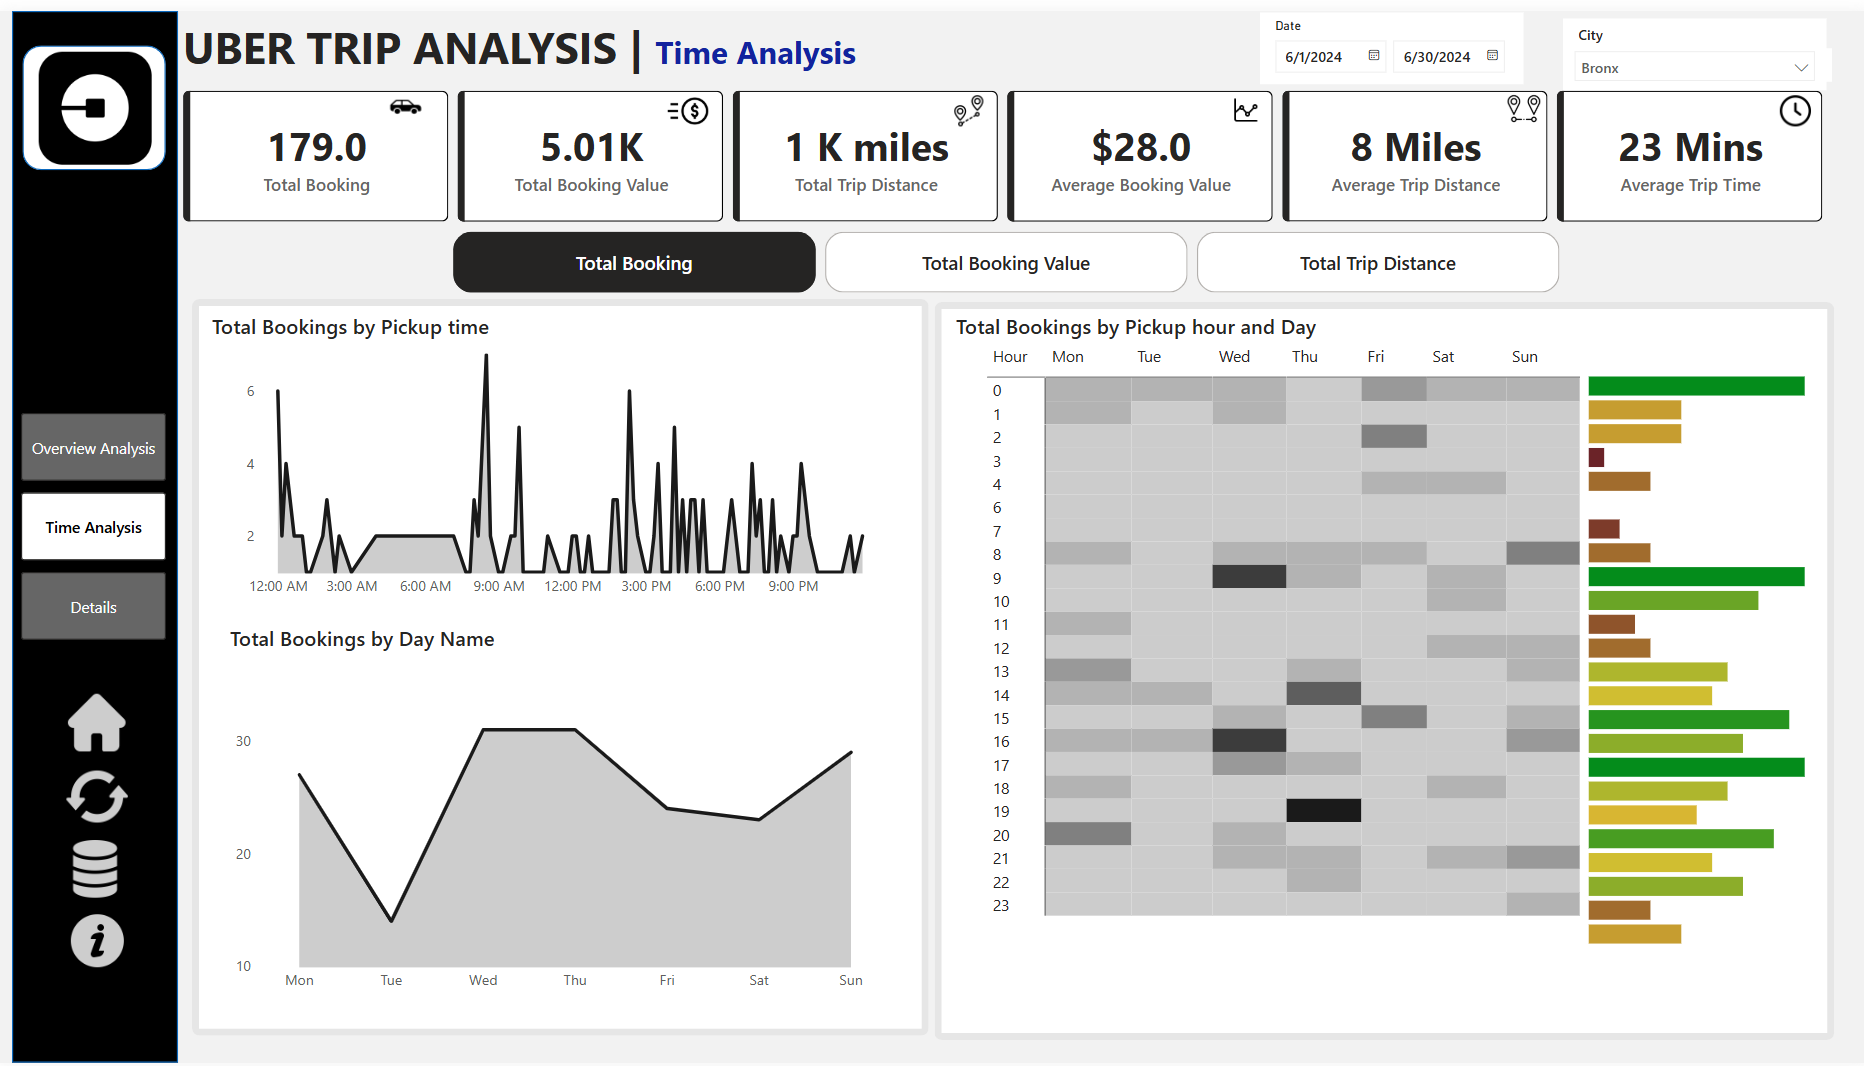

What the dashboard file says about the page in this screenshot:
{"tool":"powerbi","page":{"name":"Time Analysis","canvas":[1600,900],"ordinal":1},"visuals":[{"type":"shape","box":[9.7,0,142,899.5],"z":0},{"type":"shape","box":[19.2,29.7,122.4,106.7],"z":0,"group":"g1"},{"type":"textbox","box":[151.6,0,824.9,108.3],"z":1000},{"type":"image","box":[22.7,29.7,117.2,106.7],"z":1000,"group":"g1"},{"type":"cardVisual","fields":{"Data":["Trip Details.Total Booking","Trip Details.Total Booking Value","Trip Details.Total Trip Distance","Trip Details.Average Booking Value","Trip Details.Average Trip Distance","Trip Details.Average Trip Time"]},"box":[151.4,62.9,1415.7,122.9],"z":2000},{"type":"pageNavigator","box":[17.5,344.5,124.2,195.9],"z":2000,"group":"g1"},{"type":"image","box":[565.1,63,45.3,45.3],"z":3000},{"type":"image","box":[792.9,67.1,72.9,37.1],"z":4000},{"type":"image","box":[1271.4,64.3,64.3,38.6],"z":5000},{"type":"image","box":[1502.9,67.1,64.3,37.1],"z":6000},{"type":"image","box":[305.2,63,82.7,37.4],"z":7000},{"type":"image","box":[1028.6,68.6,72.9,32.9],"z":8000},{"type":"advancedSlicerVisual","fields":{"Values":["Dynamic Measure.Dynamic Measure"]},"box":[382,184,958,62],"z":9000},{"type":"slicer","fields":{"Values":["Calendar Table.Date"]},"box":[1077.2,1.7,225.6,61.2],"z":10000},{"type":"slicer","fields":{"Values":["Location Table.City"]},"box":[1336,7,225.6,61.2],"z":11000},{"type":"shape","box":[164,246,630,630],"z":12000},{"type":"areaChart","fields":{"Y":["Trip Details.Total Booking"],"Category":["Trip Details.Pickup Hour (HH MM SS) (bins)"]},"box":[196,280,568,230],"z":13000},{"type":"cardVisual","fields":{"Data":["Trip Details.Pickup TIme Title"]},"box":[164.4,232.6,332.3,63],"z":14000},{"type":"areaChart","fields":{"Y":["Trip Details.Total Booking"],"Category":["Calendar Table.Day Name"]},"box":[195.9,561.3,568.3,285],"z":15000},{"type":"cardVisual","fields":{"Data":["Trip Details.Day Name Title"]},"box":[180.1,498.4,332.3,63],"z":16000},{"type":"shape","box":[799.2,248.3,769.4,631.3],"z":17000},{"type":"pivotTable","fields":{"Values":["Trip Details.Total Booking"],"Rows":["Trip Details.Pickup Hour"],"Columns":["Calendar Table.Day Name"]},"box":[839.4,279.8,524.6,522.9],"z":18000},{"type":"barChart","fields":{"Y":["Trip Details.Total Booking"],"Category":["Trip Details.Pickup Hour"]},"box":[1353.5,299,208.1,524.6],"z":19000},{"type":"cardVisual","fields":{"Data":["Trip Details.Title by Hour and Day pickup"]},"box":[800,231.7,423.3,63.3],"z":20000},{"type":"group","id":"g1","title":"Group 1","box":[17.5,29.7,124.2,510.6],"z":21000},{"type":"image","box":[49,578.5,68.2,59.5],"z":22000},{"type":"image","box":[49,639.7,68.2,63],"z":23000},{"type":"image","box":[52.5,767.7,61.2,56],"z":24000},{"type":"image","box":[50.7,703,59.5,61.2],"z":26000}]}

Visuals, with their boxes in screenshot pixels (x1, y1, x2, y2), scaled from the page's 1600x900 canvas onto the 1864x1066 screenshot:
shape: locate(11, 0, 177, 1065)
shape: locate(22, 35, 165, 162)
textbox: locate(177, 0, 1138, 128)
image: locate(26, 35, 163, 162)
cardVisual - Trip Details.Total Booking x Trip Details.Total Booking Value: locate(176, 75, 1826, 220)
pageNavigator: locate(20, 408, 165, 640)
image: locate(658, 75, 711, 128)
image: locate(924, 79, 1009, 123)
image: locate(1481, 76, 1556, 122)
image: locate(1751, 79, 1826, 123)
image: locate(356, 75, 452, 119)
image: locate(1198, 81, 1283, 120)
advancedSlicerVisual - Dynamic Measure.Dynamic Measure: locate(445, 218, 1561, 291)
slicer - Calendar Table.Date: locate(1255, 2, 1518, 75)
slicer - Location Table.City: locate(1556, 8, 1819, 81)
shape: locate(191, 291, 925, 1038)
areaChart - Trip Details.Total Booking x Trip Details.Pickup Hour (HH MM SS) (bins): locate(228, 332, 890, 604)
cardVisual - Trip Details.Pickup TIme Title: locate(192, 276, 579, 350)
areaChart - Trip Details.Total Booking x Calendar Table.Day Name: locate(228, 665, 890, 1002)
cardVisual - Trip Details.Day Name Title: locate(210, 590, 597, 665)
shape: locate(931, 294, 1827, 1042)
pivotTable - Trip Details.Total Booking x Trip Details.Pickup Hour: locate(978, 331, 1589, 951)
barChart - Trip Details.Total Booking x Trip Details.Pickup Hour: locate(1577, 354, 1819, 976)
cardVisual - Trip Details.Title by Hour and Day pickup: locate(932, 274, 1425, 349)
"Group 1" group: locate(20, 35, 165, 640)
image: locate(57, 685, 137, 756)
image: locate(57, 758, 137, 832)
image: locate(61, 909, 132, 976)
image: locate(59, 833, 128, 905)
